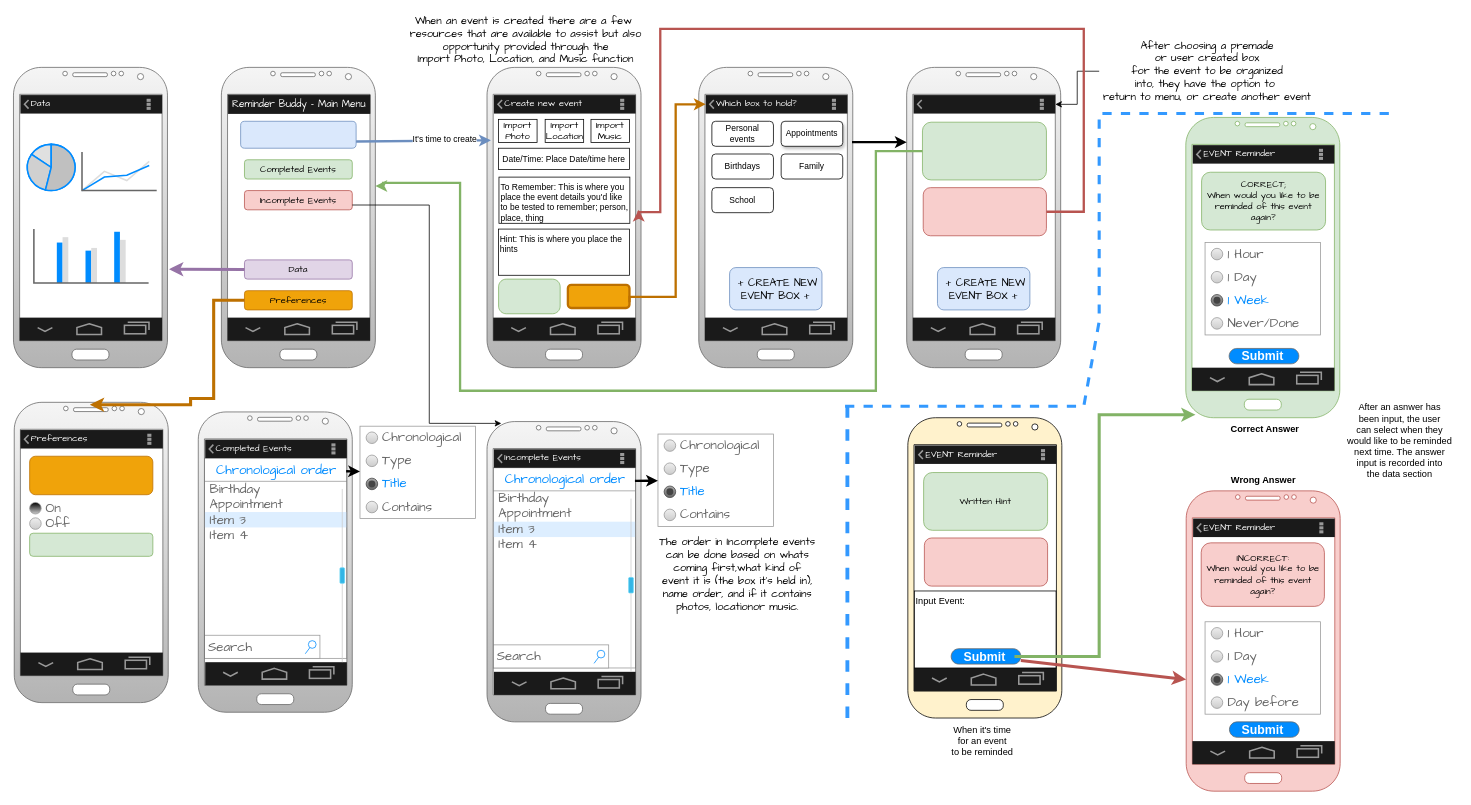
Some shapes in this 1471 by 805 pixel diagram are drawn without their labels. The centre of each missing label's shape, as x and y in pixels:
"+ Create new event" goes at (298,134).
"EVENT CREATED!!" goes at (984,104).
"EVENT CREATED: Create another?" goes at (984,211).
"EVENT CREATED: Return to main menu" goes at (984,150).
"Frequency" goes at (91,544).
"Next" goes at (598,296).
"Notifications" goes at (91,475).
"Photo/ Location/ Music Hint" goes at (986,561).
"Save + Exit" goes at (529,296).
